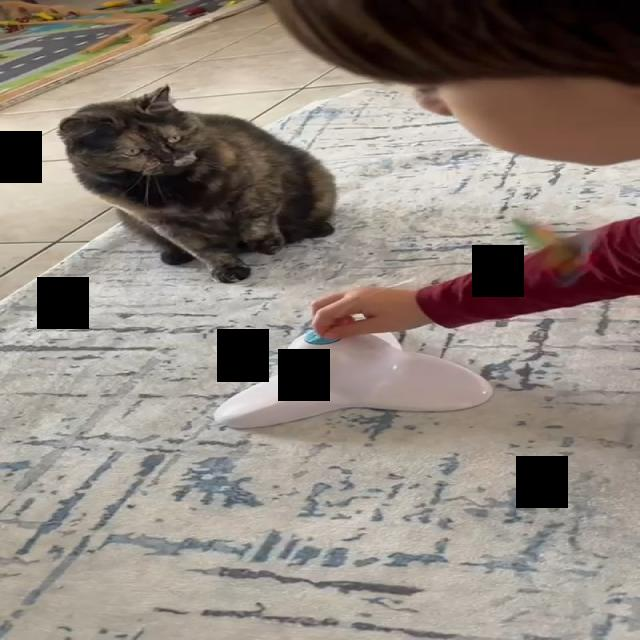authorized: (56, 84, 337, 283)
